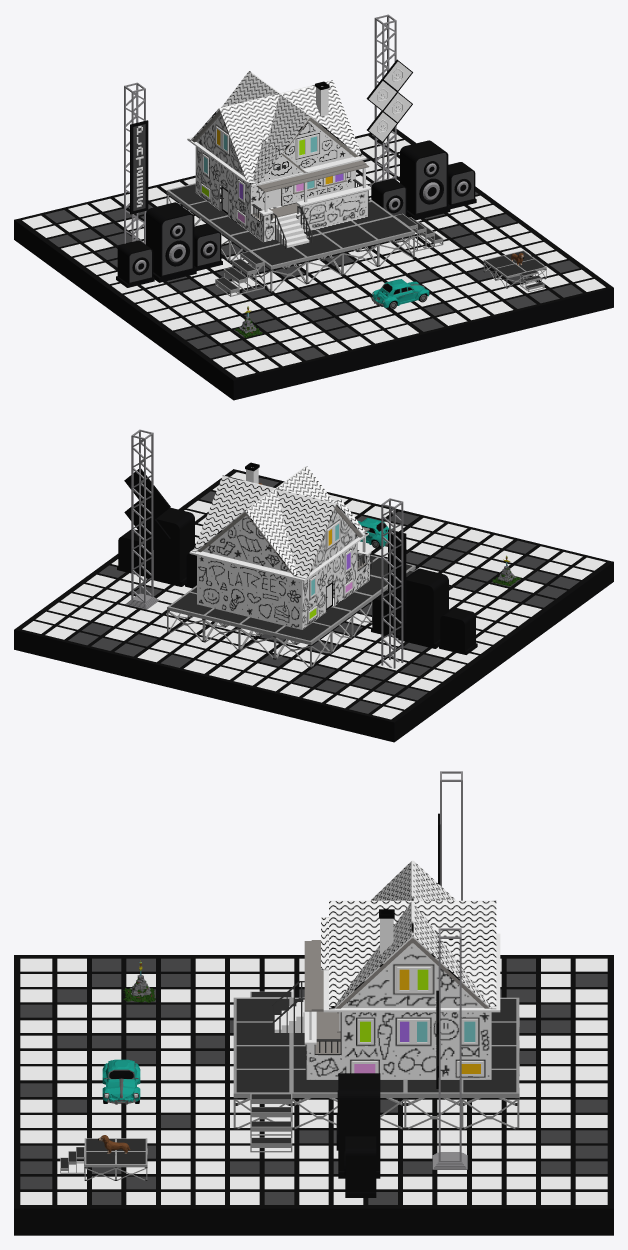
The picture shows the model from 3 angles, top to bottom: view 1: azimuth 30°, elevation 25°; view 2: azimuth 150°, elevation 25°; view 3: azimuth 270°, elevation 25°; orthographic projection. The views are drawn at different scales.
Parts seen in each view (by area): view 1: Cube.008, Cube.879, VEHICLES_VOLKSWAGEN; view 2: Cube.008, Cube.879, VEHICLES_VOLKSWAGEN; view 3: Cube.008, Cube.879, VEHICLES_VOLKSWAGEN.
Boxes of the visible parts, bbox=[...] form: Cube.008: bbox=[14, 14, 613, 400]; Cube.879: bbox=[187, 71, 371, 248]; VEHICLES_VOLKSWAGEN: bbox=[371, 279, 429, 309]; Cube.008: bbox=[14, 429, 613, 742]; Cube.879: bbox=[189, 462, 372, 629]; VEHICLES_VOLKSWAGEN: bbox=[358, 518, 391, 548]; Cube.008: bbox=[14, 771, 613, 1235]; Cube.879: bbox=[272, 860, 500, 1079]; VEHICLES_VOLKSWAGEN: bbox=[102, 1059, 140, 1104].
Size of the model in its own units: 4000 by 1995 by 4000.
Materials: 45 (9 with a texture image).
